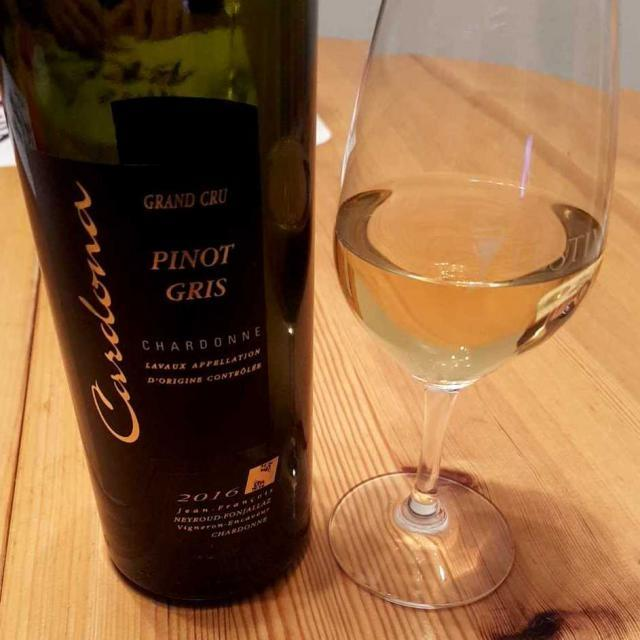wine: (338, 178, 600, 387)
